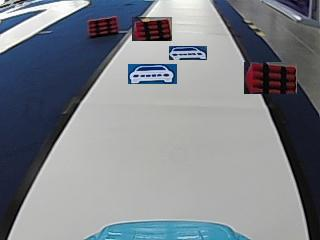bomb: (88, 15, 118, 35)
